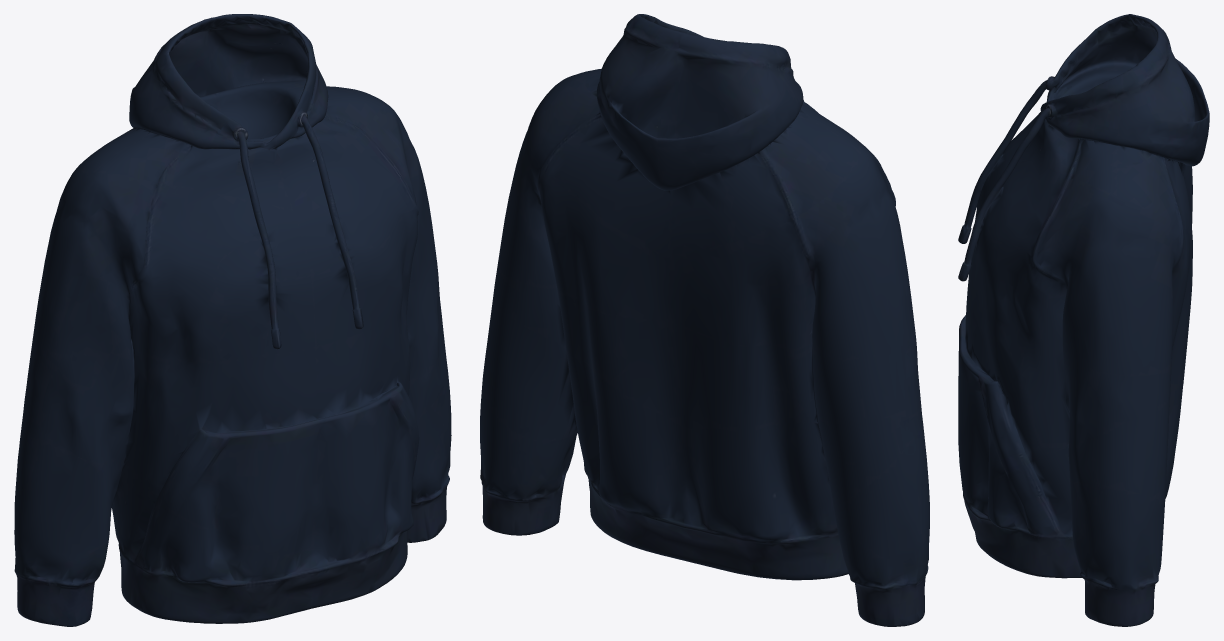
The picture shows the model from 3 angles, left to right: view 1: azimuth 30°, elevation 25°; view 2: azimuth 150°, elevation 25°; view 3: azimuth 270°, elevation 25°; orthographic projection. The views are drawn at different scales.
Visible parts, largest first — view 1: tripo_node_106f849d-0456-4183-a9a1-8dcd0363c169; view 2: tripo_node_106f849d-0456-4183-a9a1-8dcd0363c169; view 3: tripo_node_106f849d-0456-4183-a9a1-8dcd0363c169.
Boxes of the visible parts, bbox=[...] form: tripo_node_106f849d-0456-4183-a9a1-8dcd0363c169: bbox=[14, 14, 451, 626]; tripo_node_106f849d-0456-4183-a9a1-8dcd0363c169: bbox=[480, 14, 929, 626]; tripo_node_106f849d-0456-4183-a9a1-8dcd0363c169: bbox=[958, 14, 1209, 626].
Size of the model in its own units: 0.8347 by 0.9998 by 0.4552.
1 material, 1 textured.
